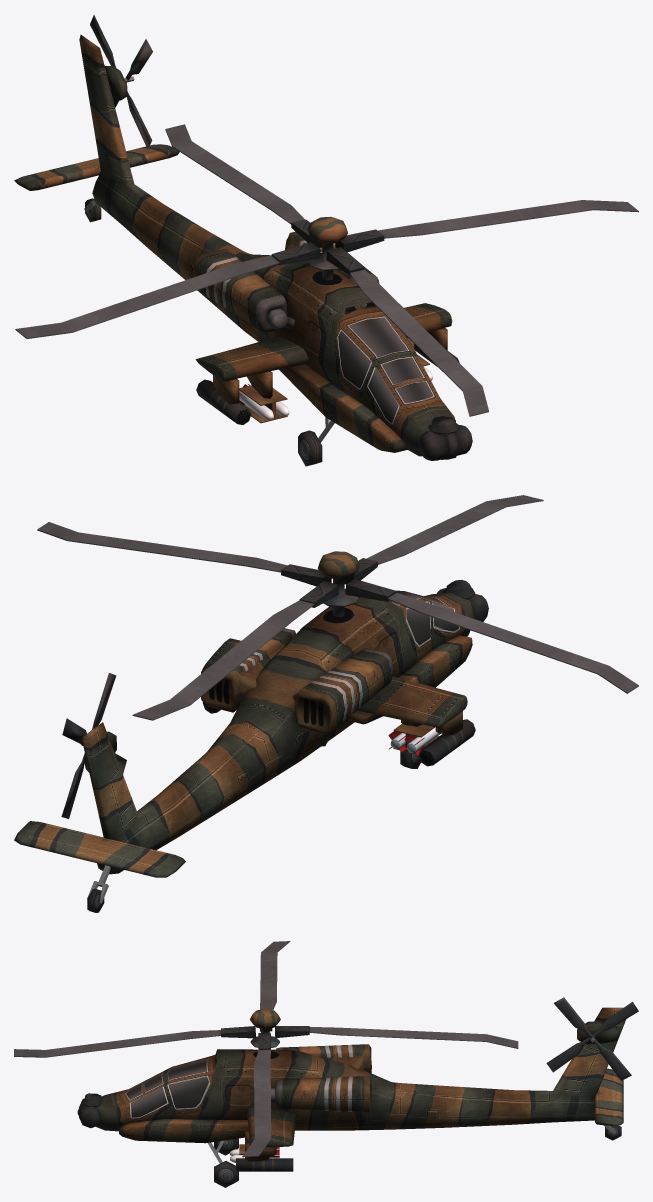
Rendered from attack_heli.glb.
The picture shows the model from 3 angles, top to bottom: view 1: azimuth 30°, elevation 25°; view 2: azimuth 150°, elevation 25°; view 3: azimuth 270°, elevation 25°; orthographic projection. The views are drawn at different scales.
Visible parts, largest first — view 1: Helicopter_Body, Propellers, Back_Propeller.001; view 2: Helicopter_Body, Propellers, Back_Propeller; view 3: Helicopter_Body, Propellers, Back_Propeller, Back_Propeller.001.
Part boxes in pixels (x1=…): Helicopter_Body: x1=14, y1=34, x2=472, y2=466; Propellers: x1=15, y1=124, x2=638, y2=416; Back_Propeller.001: x1=90, y1=15, x2=152, y2=149; Helicopter_Body: x1=14, y1=551, x2=488, y2=912; Propellers: x1=37, y1=495, x2=638, y2=720; Back_Propeller: x1=61, y1=673, x2=116, y2=818; Helicopter_Body: x1=77, y1=1007, x2=625, y2=1187; Propellers: x1=14, y1=941, x2=518, y2=1157; Back_Propeller: x1=553, y1=997, x2=631, y2=1080; Back_Propeller.001: x1=546, y1=1001, x2=638, y2=1072.
Bounding box in the file's own units: 7.29 × 2.88 × 9.02.
1 material, 1 textured.
